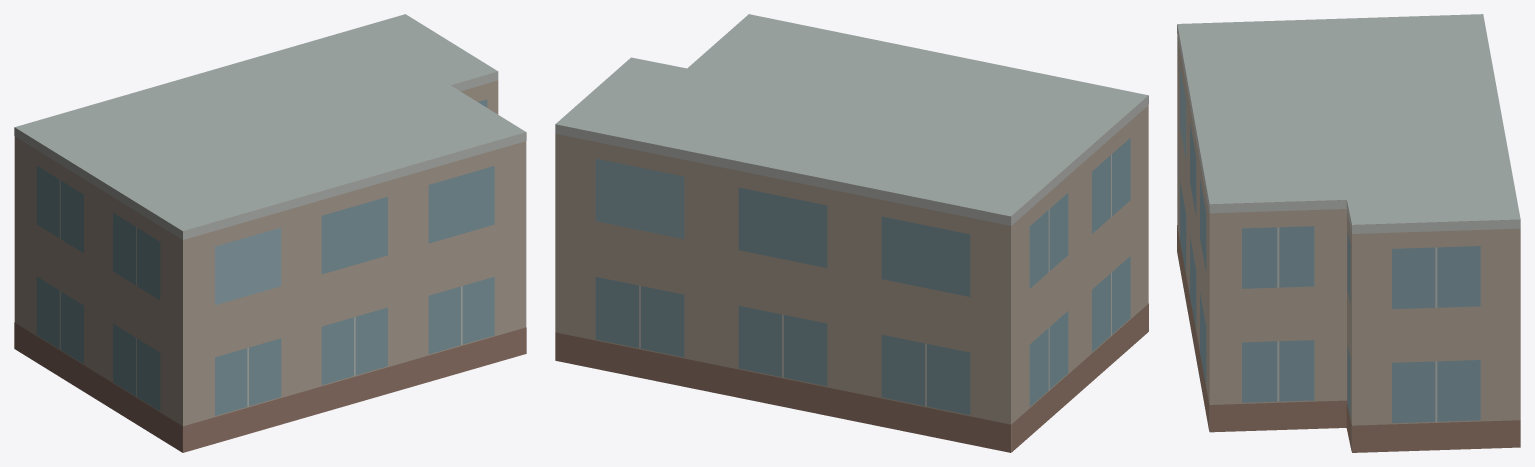
The model's file is survey-upis-32500675.glb.
The picture shows the model from 3 angles, left to right: view 1: azimuth 30°, elevation 25°; view 2: azimuth 150°, elevation 25°; view 3: azimuth 270°, elevation 25°; orthographic projection. The views are drawn at different scales.
Visible parts, largest first — view 1: survey-upis-32500675.tmp; view 2: survey-upis-32500675.tmp; view 3: survey-upis-32500675.tmp.
Boxes of the visible parts, x1,y1,x2,y2 form: survey-upis-32500675.tmp: (14,14,526,452); survey-upis-32500675.tmp: (555,14,1148,452); survey-upis-32500675.tmp: (1177,14,1520,452).
Size of the model in its own units: 12.11 by 6.1 by 8.34.
